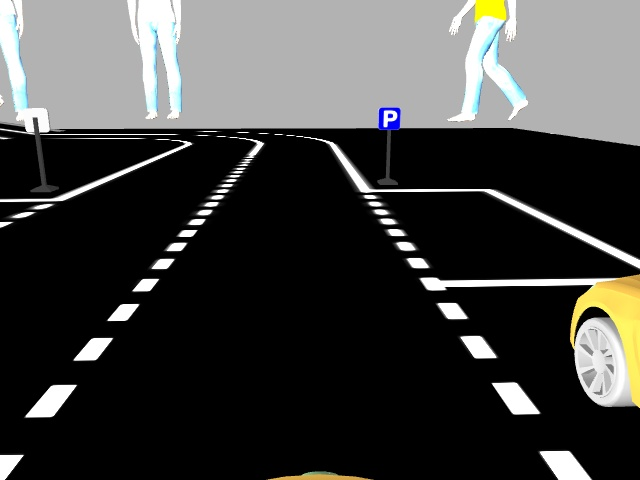Parking: (376, 107, 401, 130)
